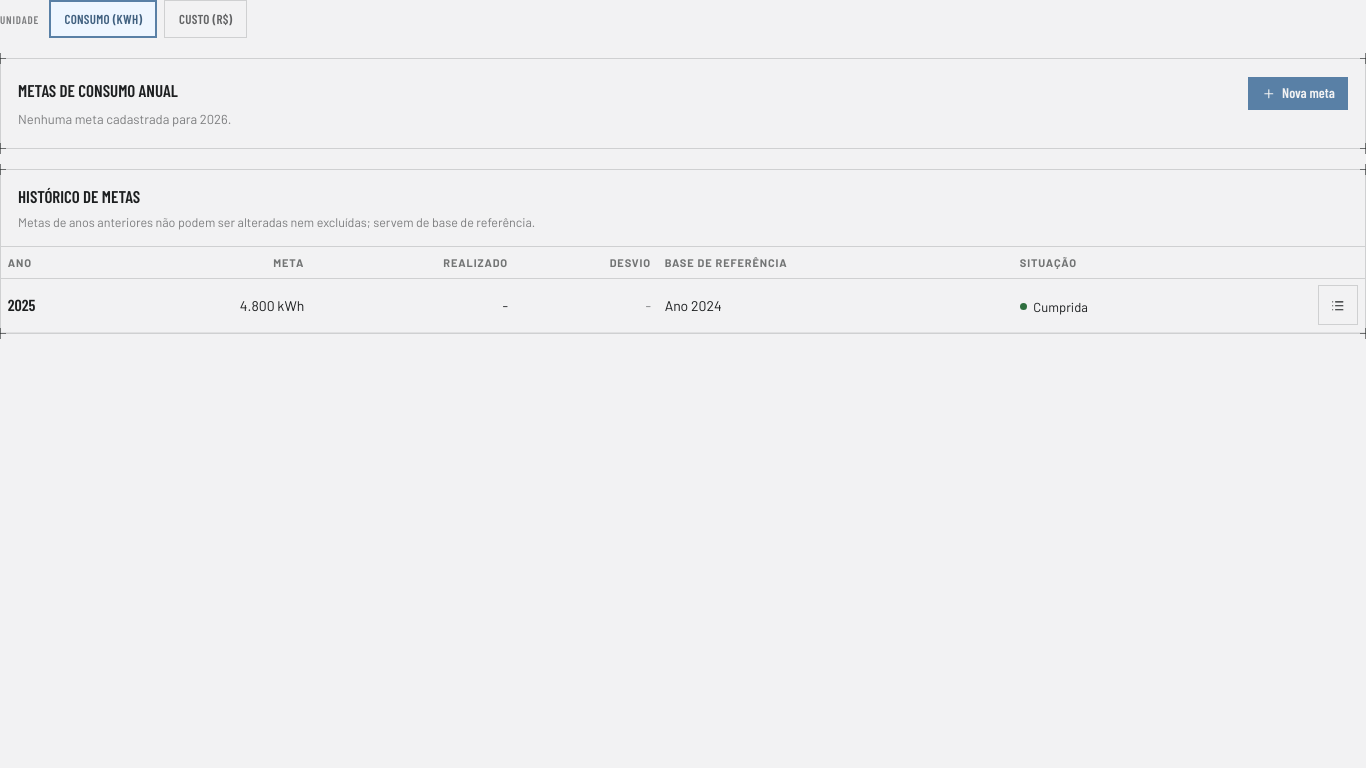
it: GoalsPage — usar como referência › o botão de nova meta depois dele volta ao rascunho padrão, sem os dados da referência
This screenshot has width=1366, height=768.
Click the button named "Usar a meta de 2025 como referência".
click(1338, 305)  # box left=1318, top=285, right=1358, bottom=325
(page scrolled)
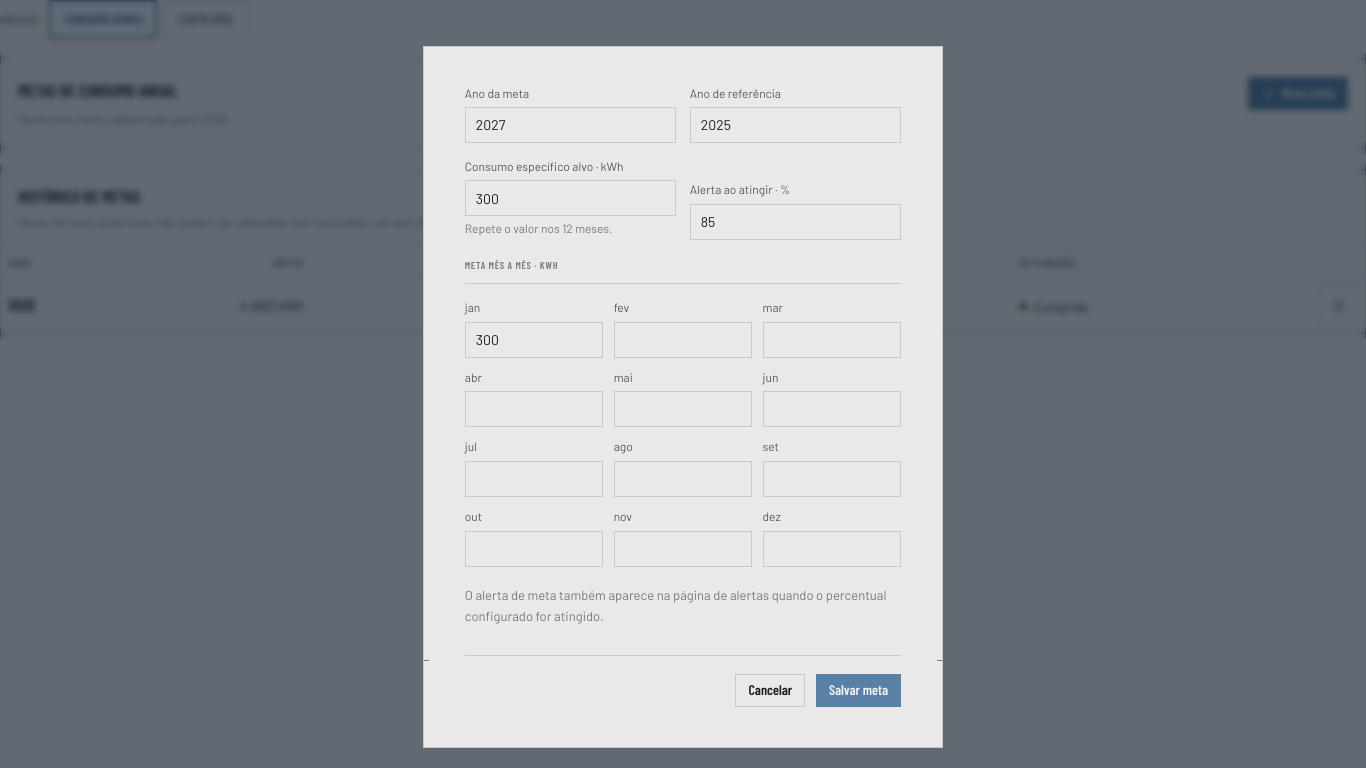
Click the button "Cancelar".
click(770, 690)  # box left=735, top=674, right=805, bottom=707
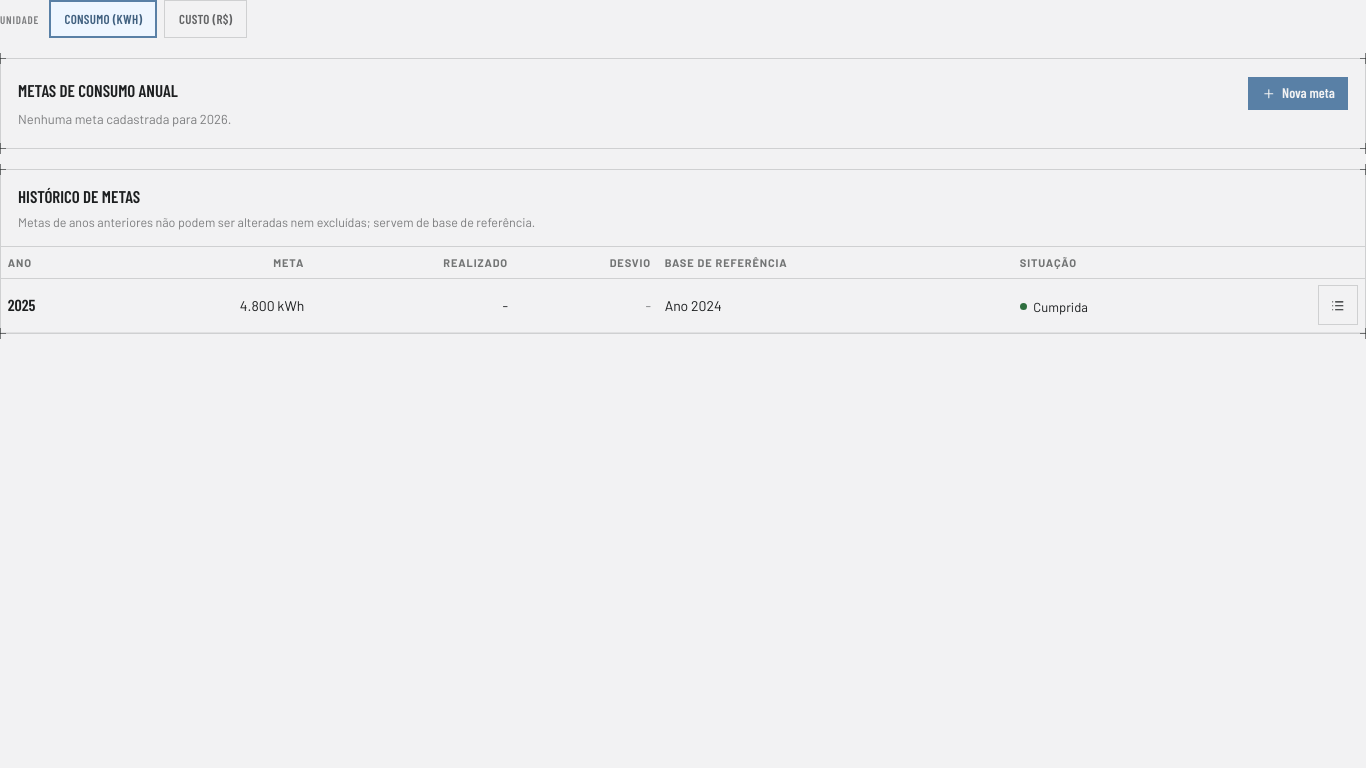
Result: the dialog is gone
Click the button "Nova meta".
click(1298, 93)  # box left=1248, top=77, right=1348, bottom=110
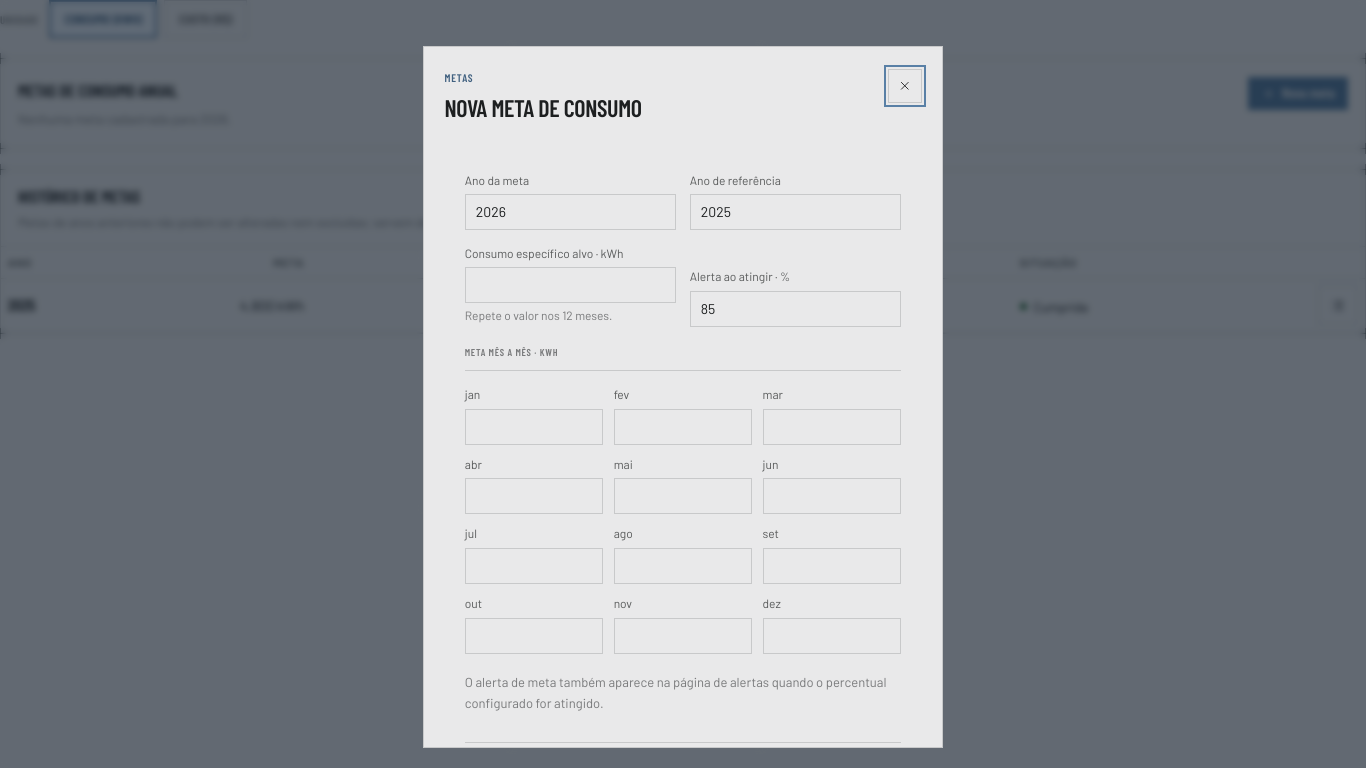
Result: the number field labelled "Ano da meta" holds "2026" at left=465, top=194, right=676, bottom=230
Result: the number field labelled "jan" is not empty at left=465, top=408, right=604, bottom=444
